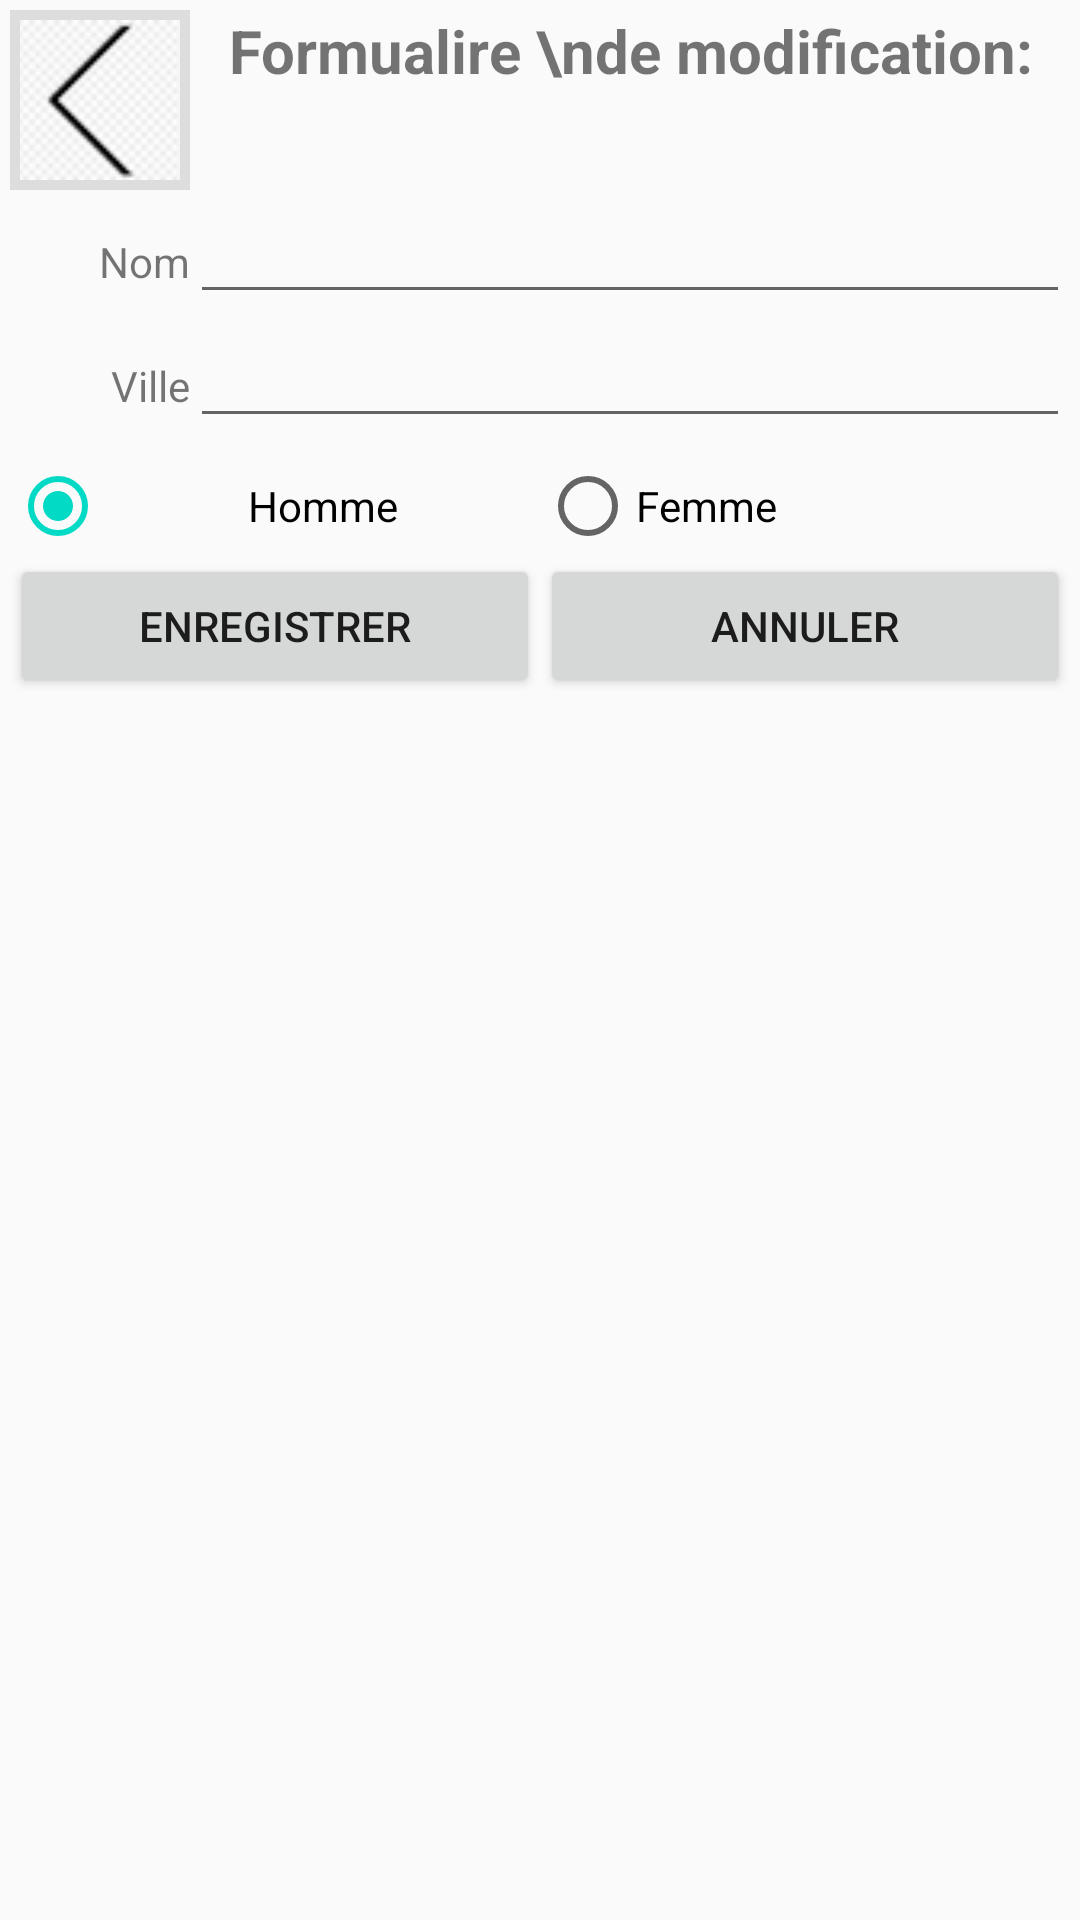

Named icons in this screenshot (1080*1920) and their bounding boxes, BBox(x1, y1, x2, y2):
arrow: BBox(10, 10, 190, 190)
